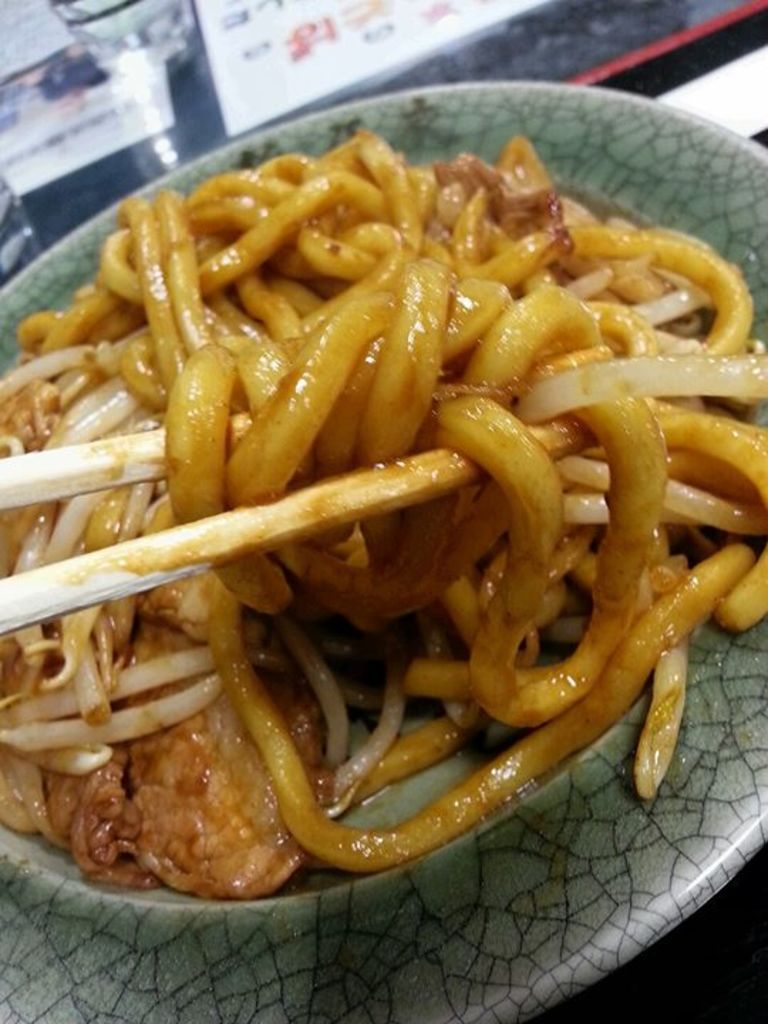pasta: (16, 44, 767, 944)
